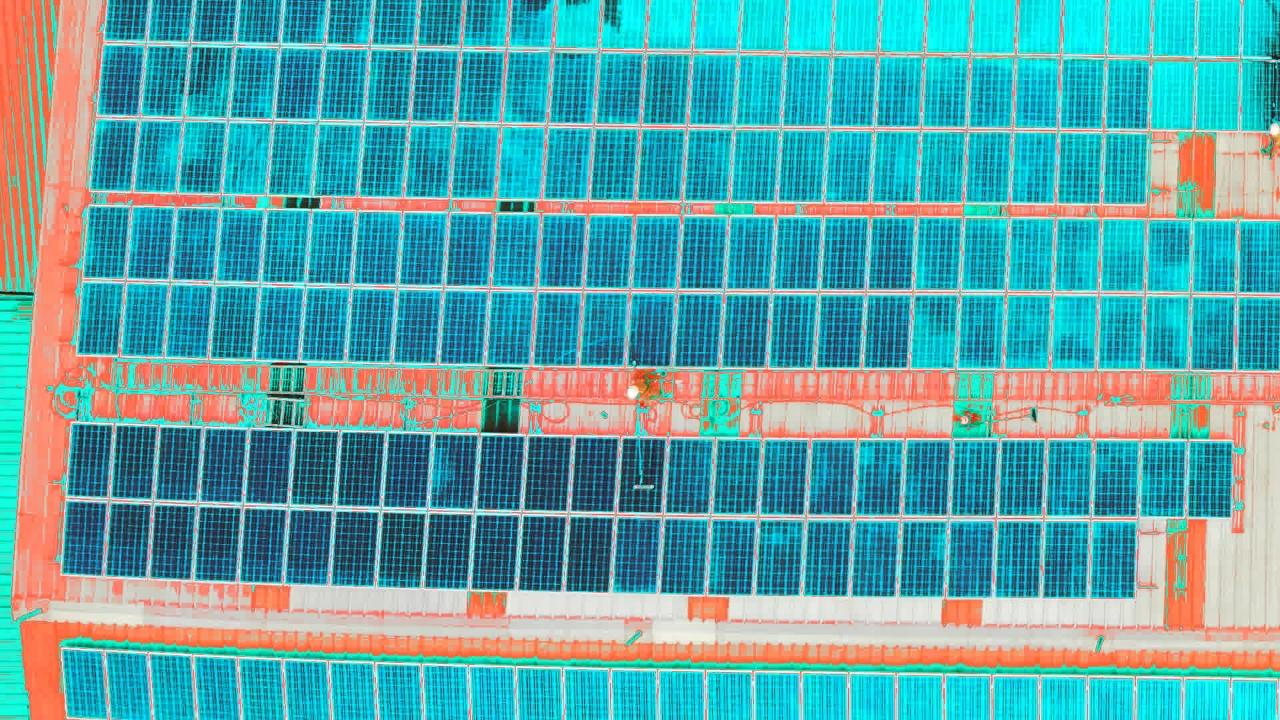clean: (75, 427, 608, 594)
dirty: (917, 211, 1191, 372), (1195, 223, 1280, 365), (1147, 63, 1280, 130)
semi: (83, 202, 920, 369), (551, 57, 1146, 208), (609, 434, 1147, 595), (108, 2, 543, 191), (1146, 437, 1231, 514)
